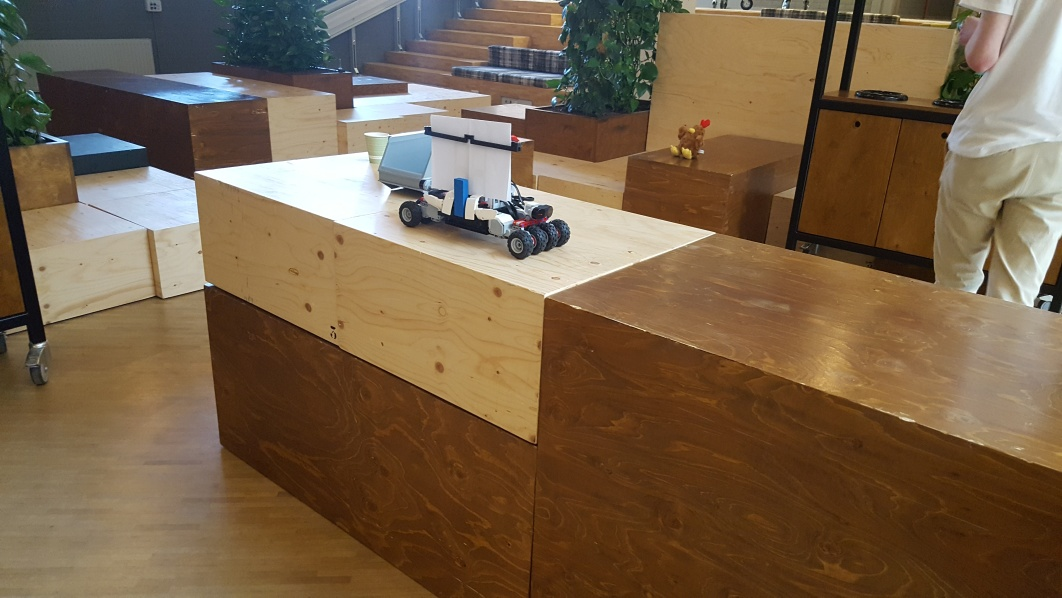beam: (452, 177, 470, 217)
chicken: (669, 117, 715, 159)
cup: (362, 128, 390, 164)
tray: (375, 132, 431, 188)
